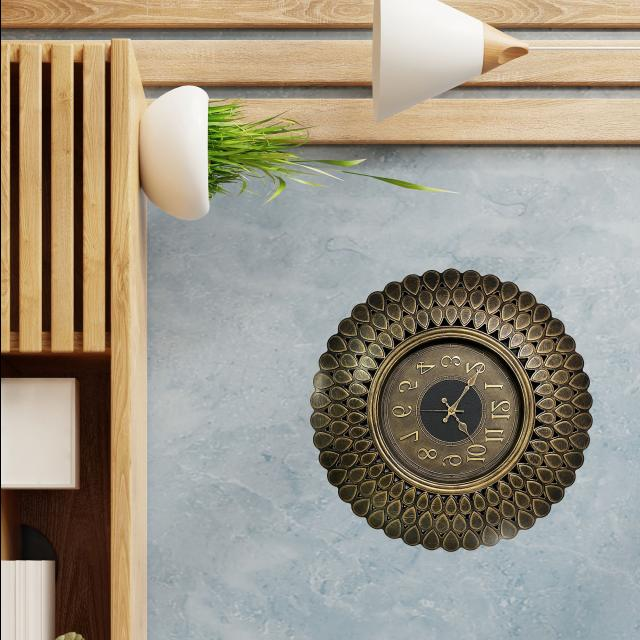clock: (293, 251, 605, 568)
